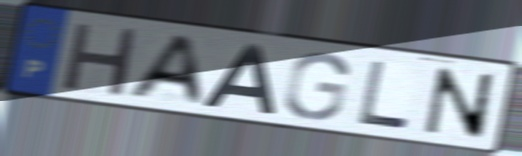A: (121, 33, 209, 108), (197, 41, 278, 116)
G: (281, 51, 352, 122)
H: (59, 19, 143, 99)
L: (355, 58, 412, 132)
N: (422, 64, 497, 143)
